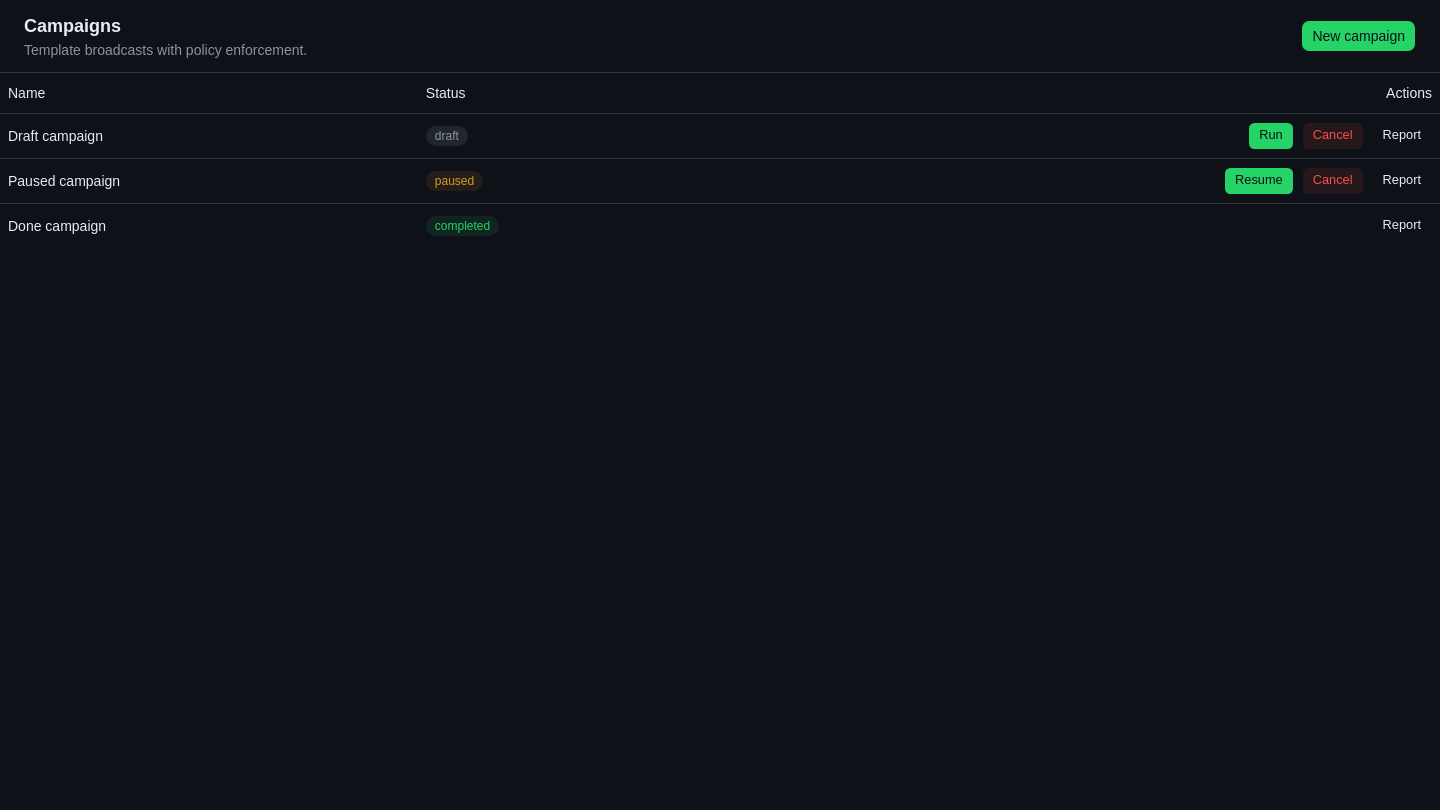
CampaignsPage actions › Report dialog fetches the funnel and renders counts
Click the button "Report" in the row of "Done campaign".
click(1402, 226)  # box [1372,212,1432,240]
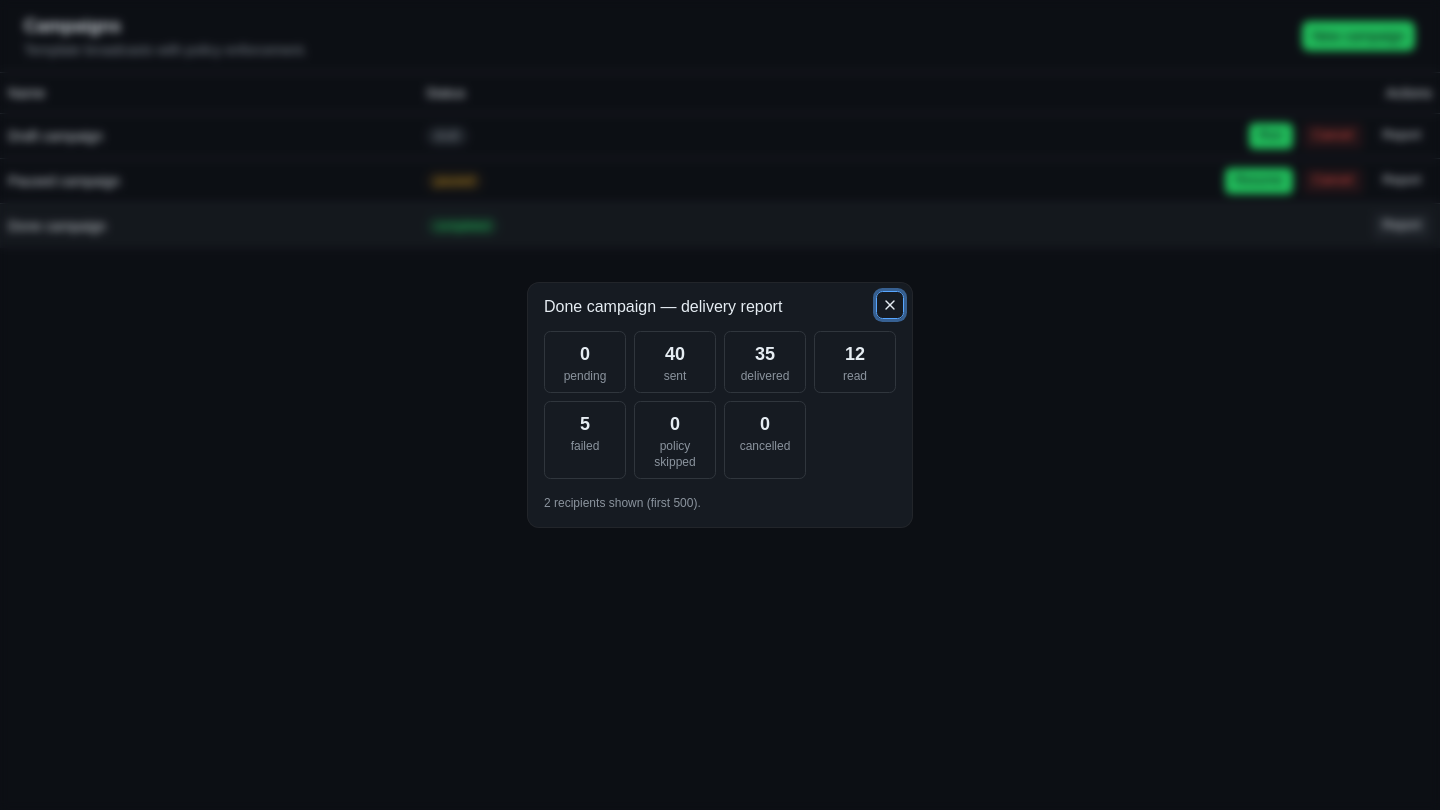
Result: the heading "Done campaign — delivery report" is shown at [544,298,782,315]
Result: the text "40" is shown at [665,344,685,364]
Result: the text "35" is shown at [755,344,775,364]
